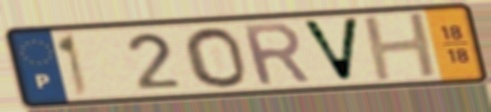1: (54, 30, 91, 100)
2: (125, 31, 185, 92)
H: (359, 10, 443, 84)
O: (180, 25, 250, 89)
R: (238, 20, 315, 89)
V: (297, 16, 363, 85)
